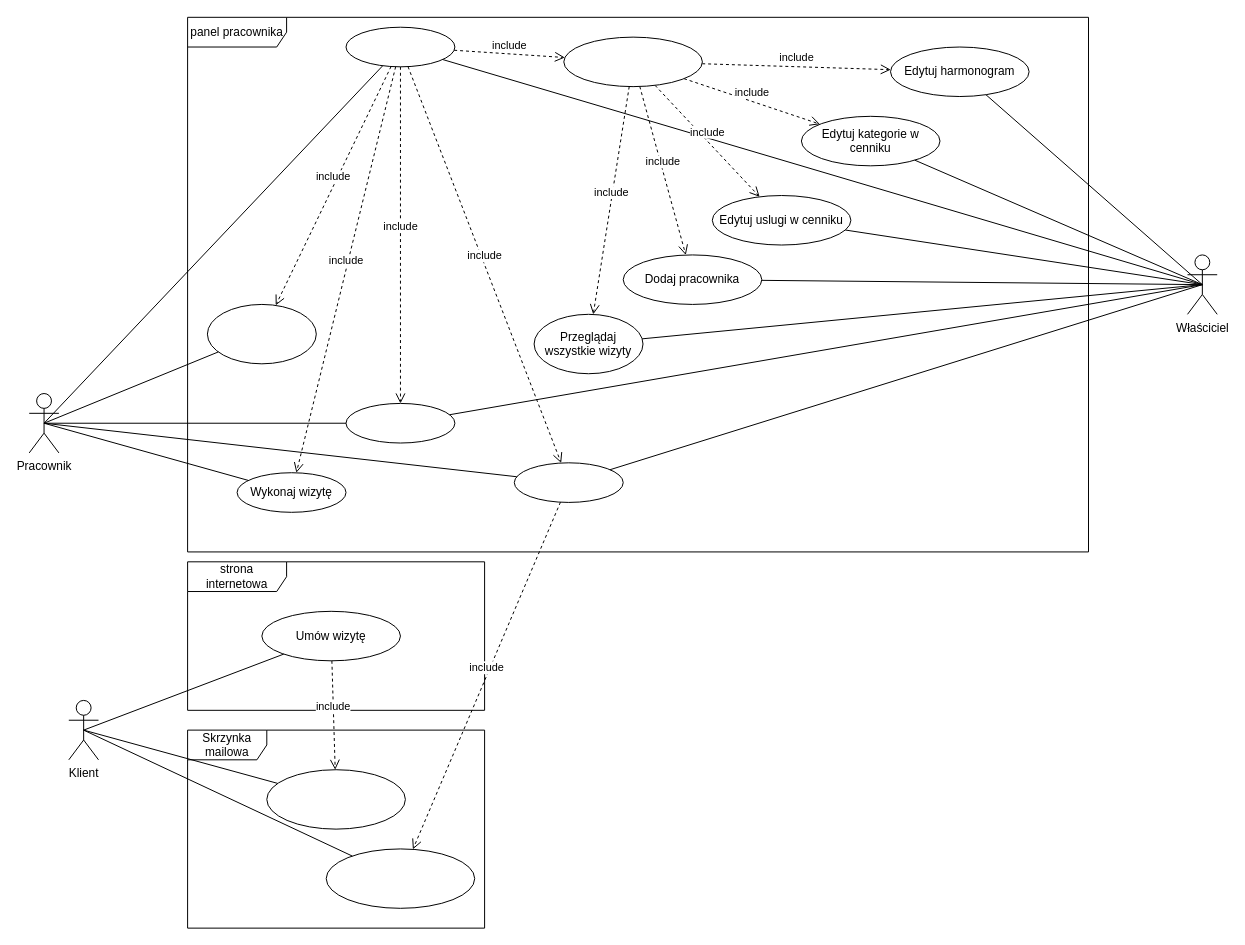
Image size: 1245x945. Some labels were removed from this diagram. Here are the shapes that lost their labels. From the top down, the centre of each, then its label:
the point at 400,46: Logowanie
the point at 632,61: Weryfikacja właściciela
the point at 261,333: Przeglądaj swoje wizyty
the point at 400,422: Dodaj wizytę
the point at 568,482: Anuluj wizytę
the point at 335,799: Potwierdź wizytę
the point at 400,878: Przeczytaj informację o anulowaniu wizyty
